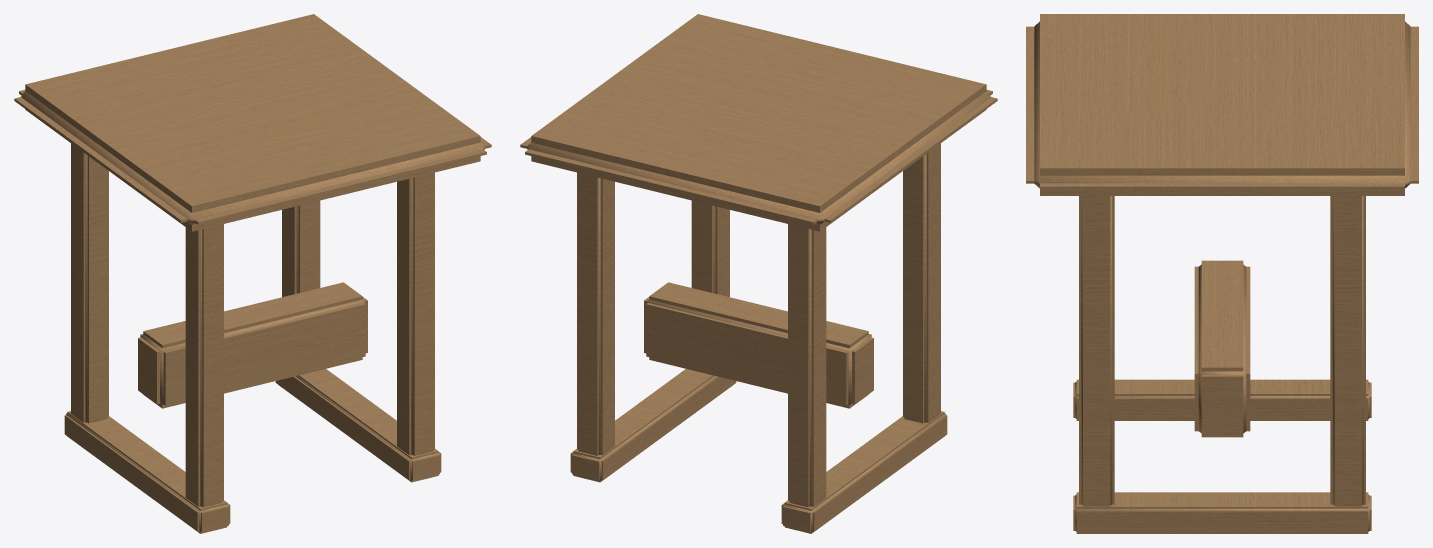
File: country.side_table.gltf
The picture shows the model from 3 angles, left to right: view 1: azimuth 30°, elevation 25°; view 2: azimuth 150°, elevation 25°; view 3: azimuth 270°, elevation 25°; orthographic projection. The views are drawn at different scales.
Visible parts, largest first — view 1: country.side_table.rounded-top; view 2: country.side_table.rounded-top; view 3: country.side_table.rounded-top.
Part boxes in pixels (x1,y1,x2,y2): country.side_table.rounded-top: (14, 14, 491, 533); country.side_table.rounded-top: (520, 14, 997, 533); country.side_table.rounded-top: (1026, 14, 1418, 533).
Bounding box in the file's own units: 0.46 × 0.49 × 0.46.
Materials: 1 (1 with a texture image).
